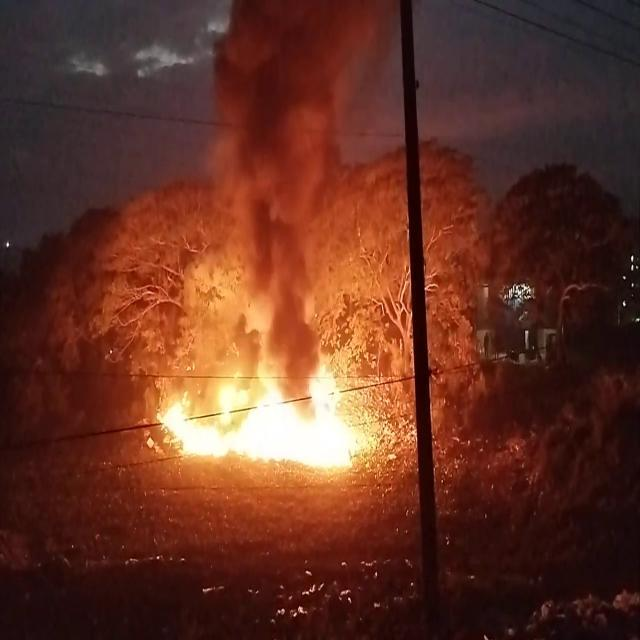Fire: (144, 333, 386, 479)
Smoke: (202, 0, 400, 308)
